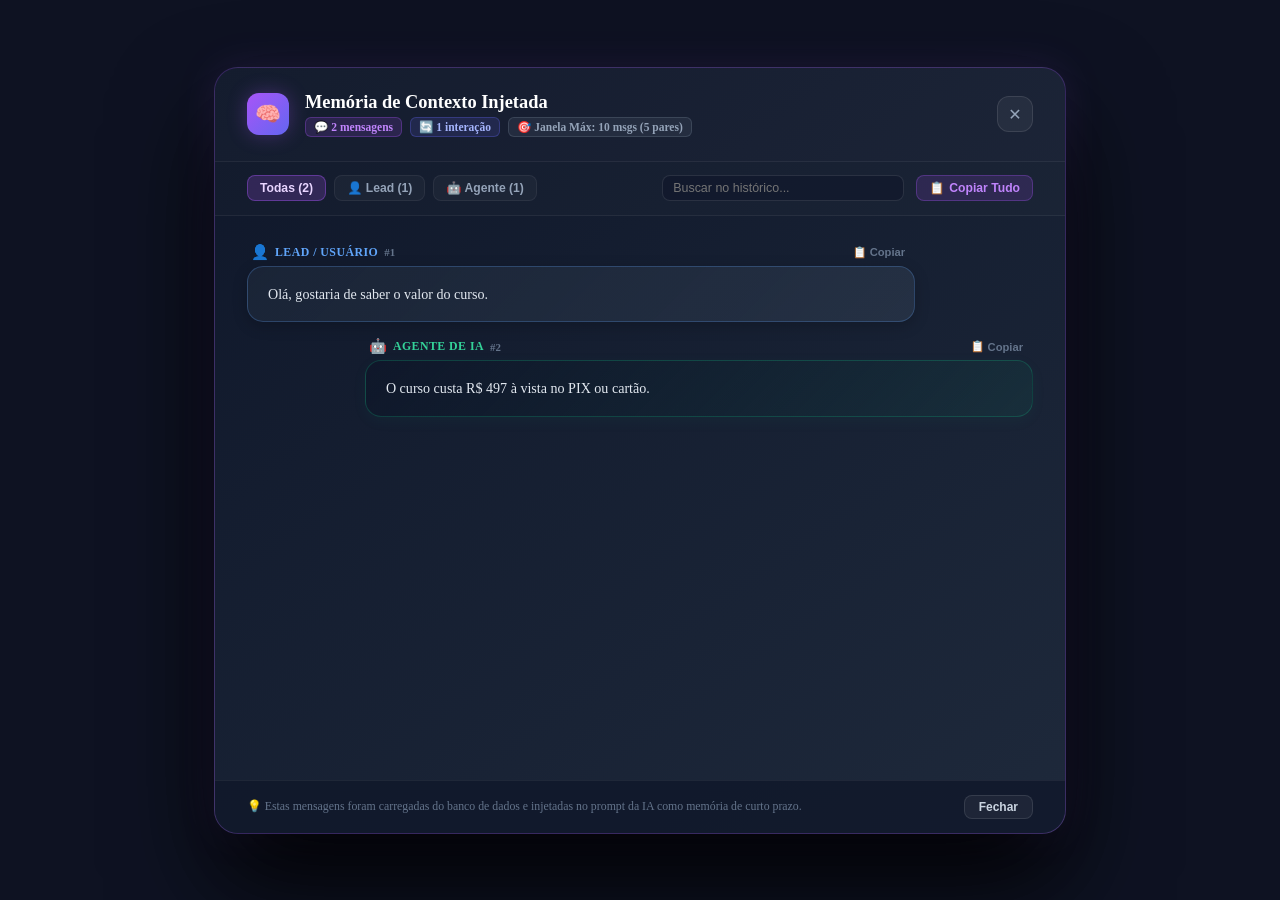
ContextMemoryViewerModal › deve filtrar mensagens por papel (Lead vs Agente)
Filtra por Lead
What coordinates should you click on to do the following:
click the button "👤 Lead (1)"
I would click on:
 (380, 188)
Its box is [334,175,425,201].
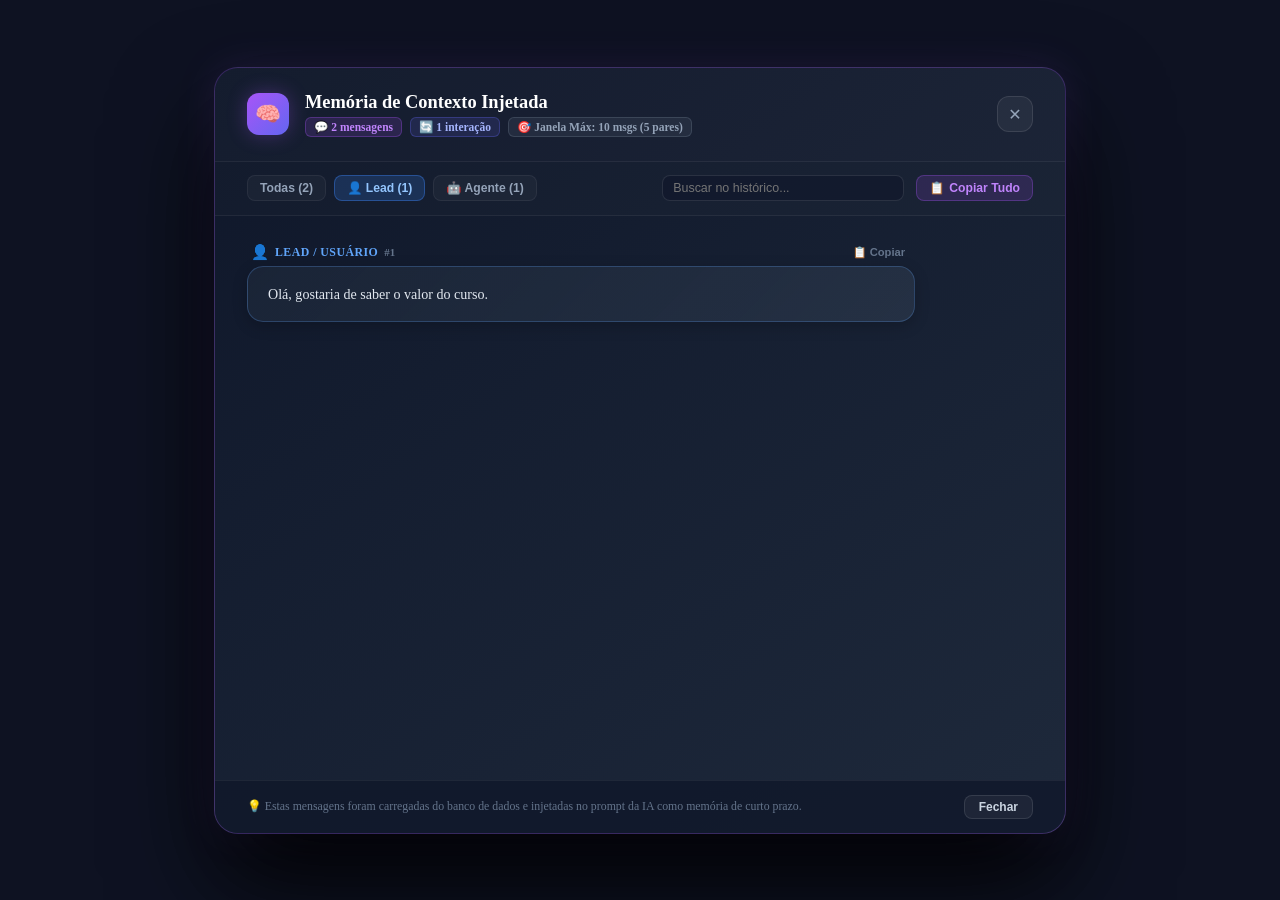
Check: the text "Olá, gostaria de saber o valor do curso." is shown, box [247,266,915,322]
Check: the text "O curso custa R$ 497 à vista no PIX ou cartão." is gone
Filtra por Agente
What coordinates should you click on to do the following:
click the button "🤖 Agente (1)"
I would click on:
 (485, 188)
Its box is [433,175,537,201].
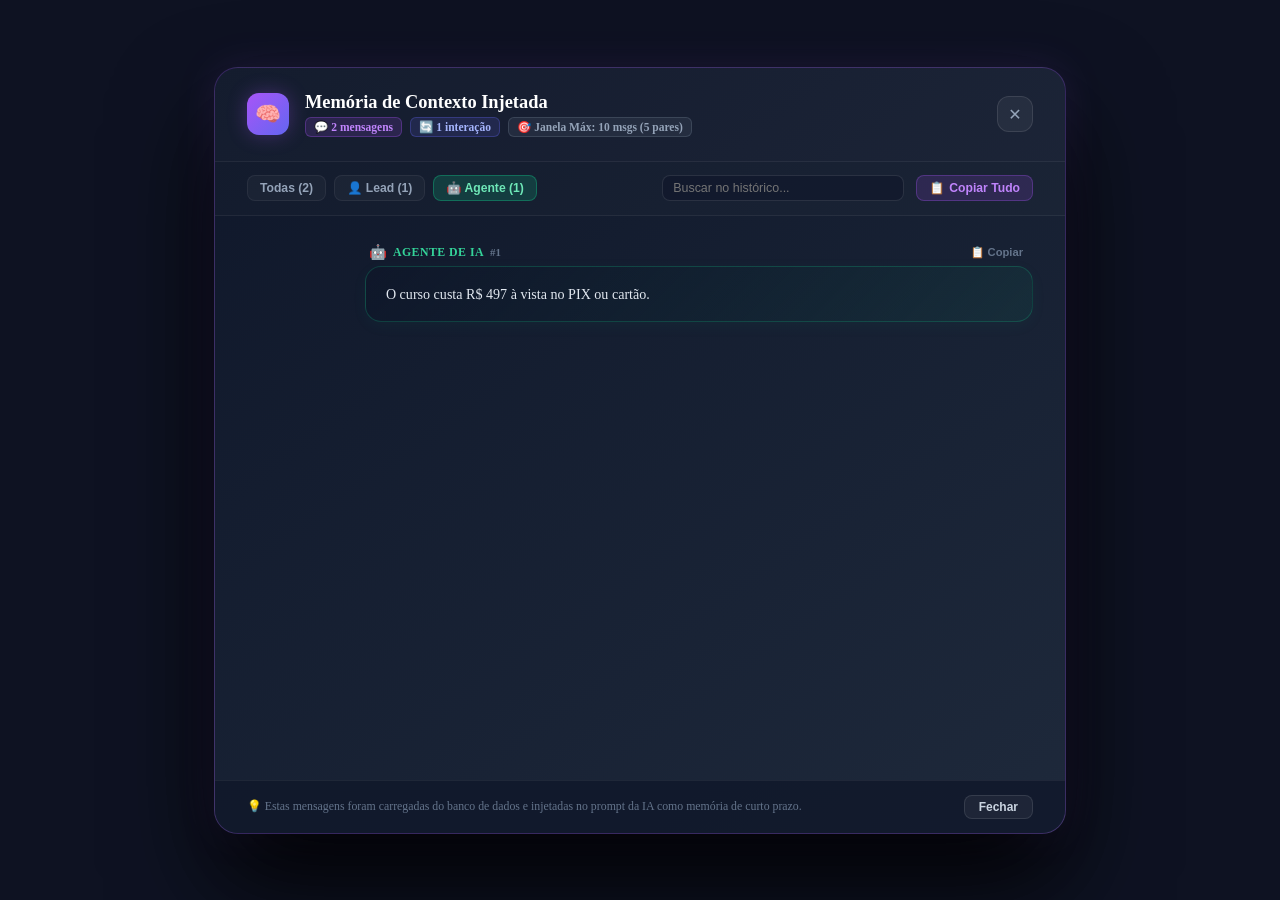
Check: the text "Olá, gostaria de saber o valor do curso." is gone
Check: the text "O curso custa R$ 497 à vista no PIX ou cartão." is shown, box [365,266,1033,322]
Volta para Todas
What coordinates should you click on to do the following:
click the button "Todas (2)"
I would click on:
 (287, 188)
Its box is [247,175,326,201].
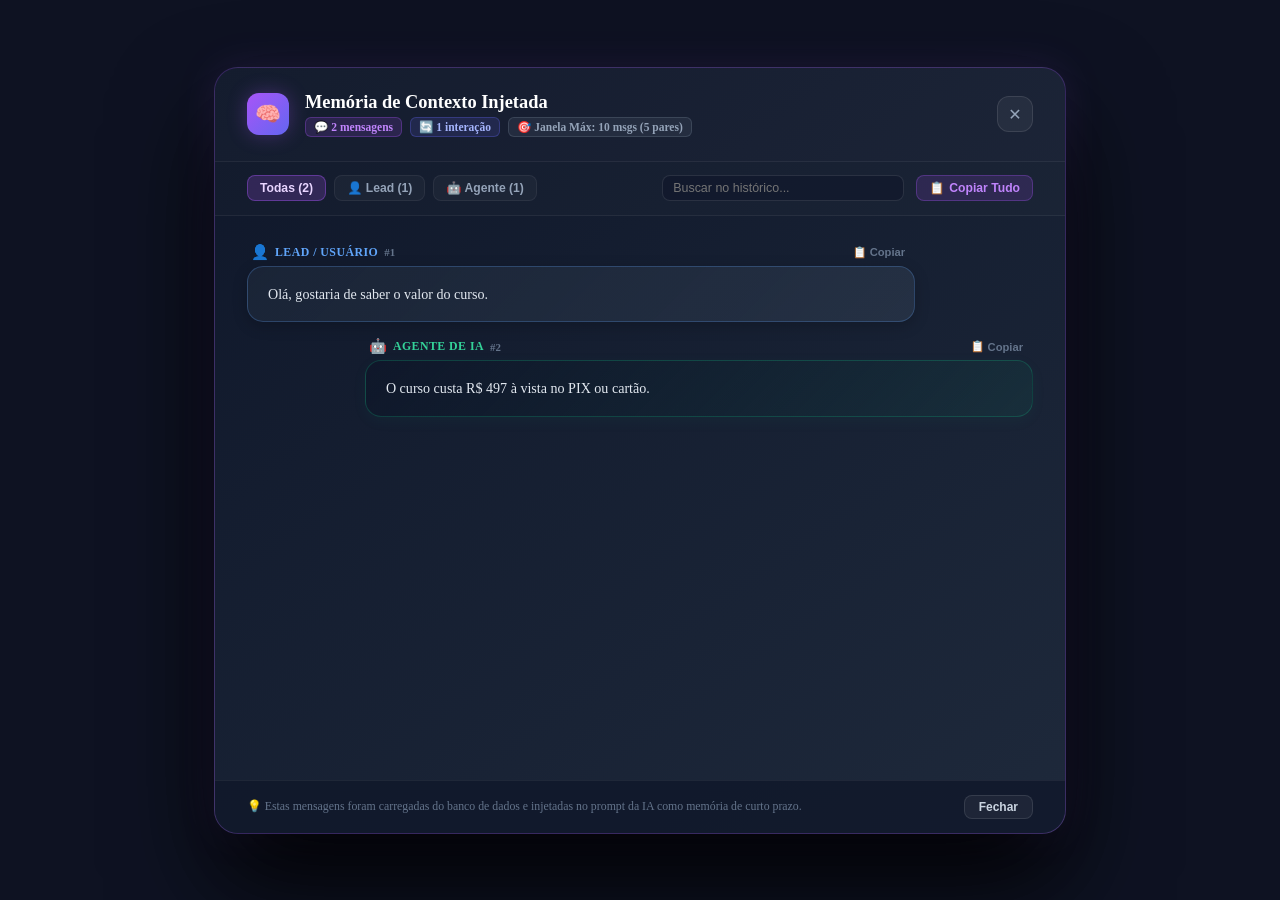
Check: the text "O curso custa R$ 497 à vista no PIX ou cartão." is shown, box [365,360,1033,417]
Check: the text "Olá, gostaria de saber o valor do curso." is shown, box [247,266,915,322]
